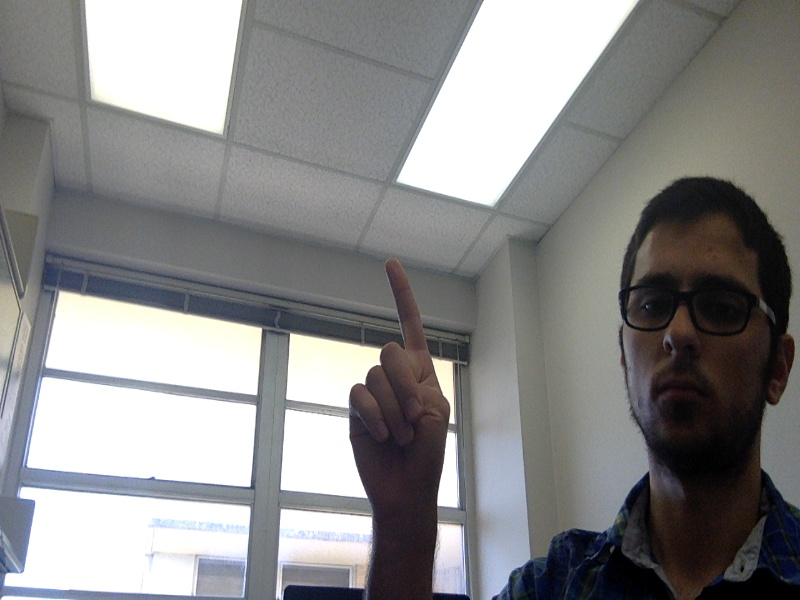1-hand: (345, 258, 448, 504)
